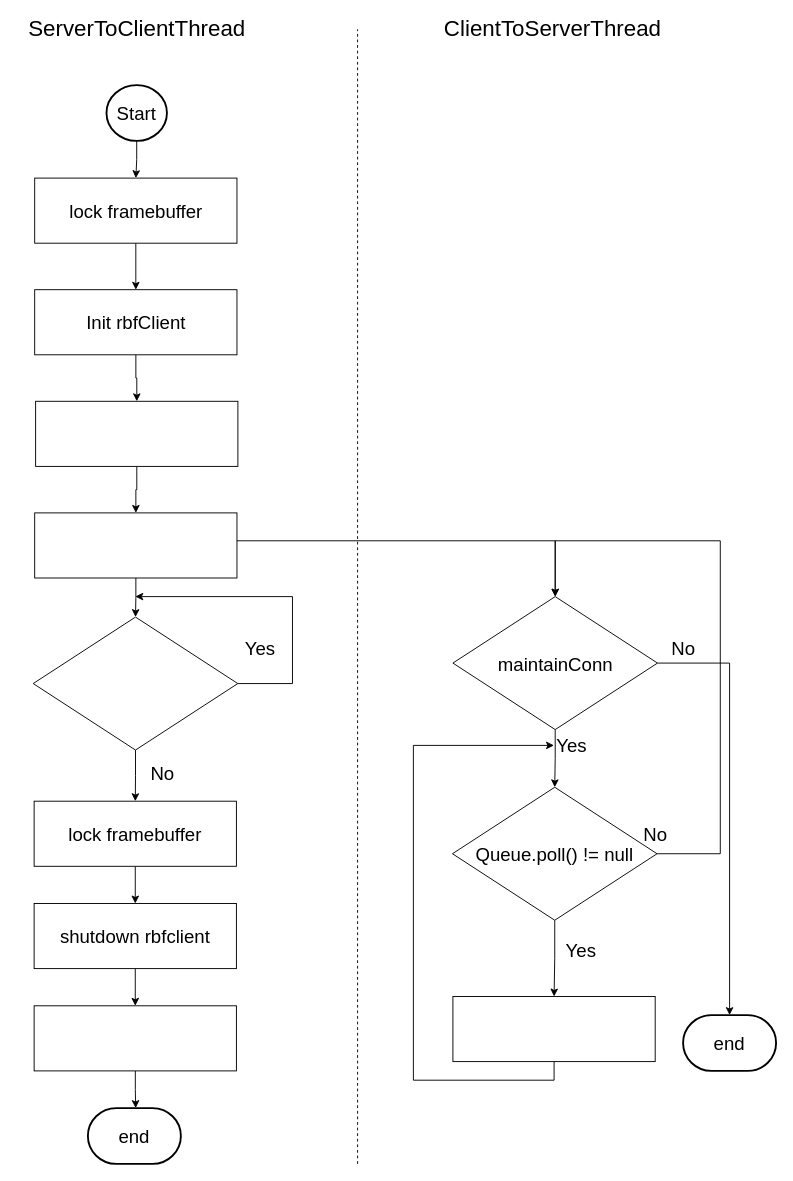
Image size: 793x1181. Some labels were removed from this diagram. Here are the shapes that lost their labels. From the top down, the centre of each, then its label:
the point at 136,433: release freambuffer
the point at 135,545: start ClientToServerThread
the point at 135,683: maintainConn & rbfClient is alive
the point at 134,1038: releas framebuffer
the point at 553,1029: Send To Server
